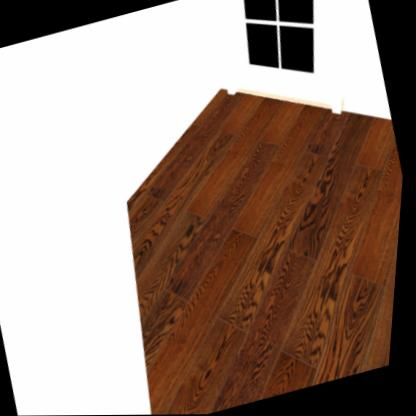Wooden floor: (129, 89, 405, 415)
